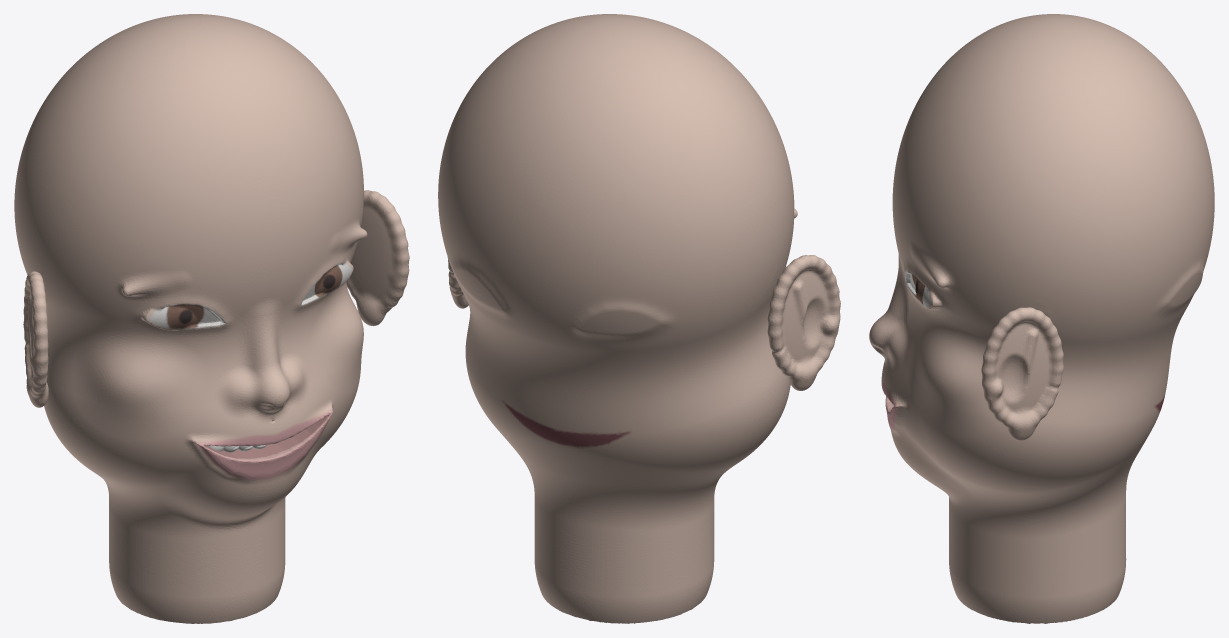
File: karma_face_stage1_J_smile_EXPERIMENT.glb
3 views of the same model, side by side, from view 1: azimuth 30°, elevation 25°; view 2: azimuth 150°, elevation 25°; view 3: azimuth 270°, elevation 25° (orthographic).
Visible parts, largest first — view 1: head; view 2: head; view 3: head.
Part boxes in pixels (x1,y1,x2,y2): head: (14,14,409,623); head: (438,14,840,623); head: (869,14,1214,623).
Size of the model in its own units: 2.7 by 3.83 by 2.15.
